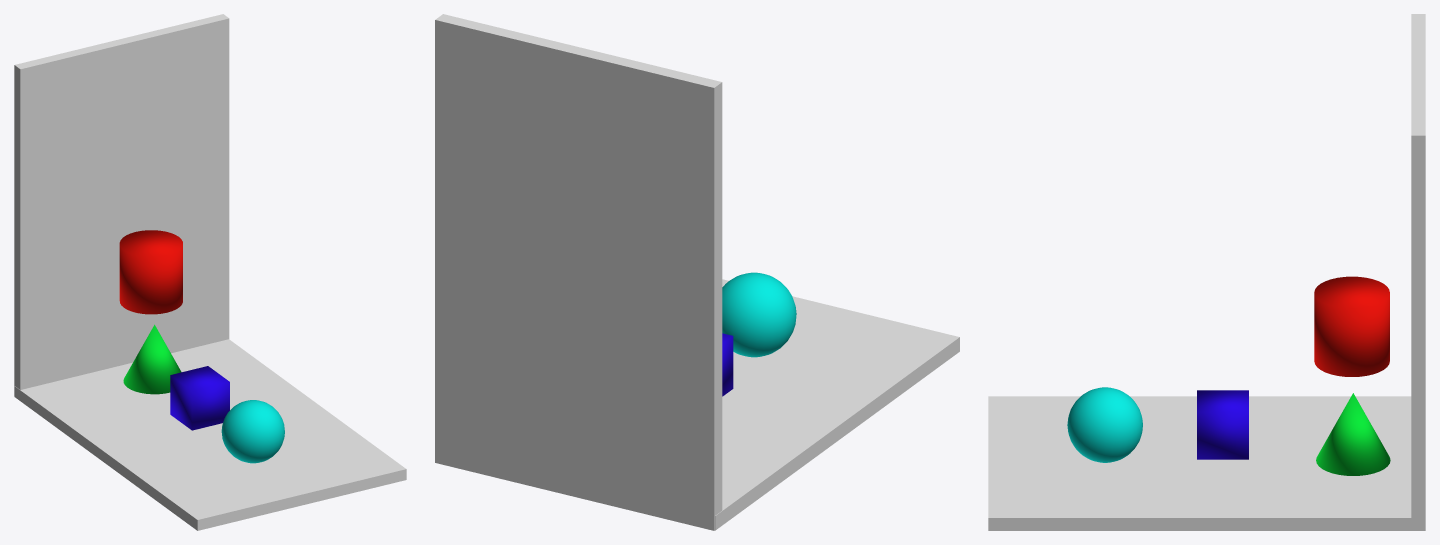
The picture shows the model from 3 angles, left to right: view 1: azimuth 30°, elevation 25°; view 2: azimuth 150°, elevation 25°; view 3: azimuth 270°, elevation 25°; orthographic projection. The views are drawn at different scales.
Parts seen in each view (by area): view 1: Cube, Cube.001, Cylinder, Sphere, Cube.002, Cone; view 2: Cube, Cube.001, Sphere, Cube.002; view 3: Cube.001, Cube, Cylinder, Sphere, Cube.002, Cone.
Part boxes in pixels (box(x1,y1,x2,y2)): Cube: box(14, 14, 229, 396); Cube.001: box(14, 339, 406, 530); Cylinder: box(119, 230, 182, 314); Sphere: box(221, 400, 284, 463); Cube.002: box(170, 366, 229, 430); Cone: box(123, 324, 181, 394); Cube: box(435, 14, 722, 530); Cube.001: box(715, 279, 959, 530); Sphere: box(722, 272, 796, 357); Cube.002: box(722, 333, 733, 396); Cube.001: box(988, 396, 1411, 530); Cube: box(1411, 14, 1425, 530); Cylinder: box(1314, 276, 1389, 376); Sphere: box(1067, 387, 1142, 462); Cube.002: box(1197, 390, 1248, 459); Cone: box(1316, 393, 1390, 475).
Bounding box in the file's own units: 762 × 1153 × 1157.
